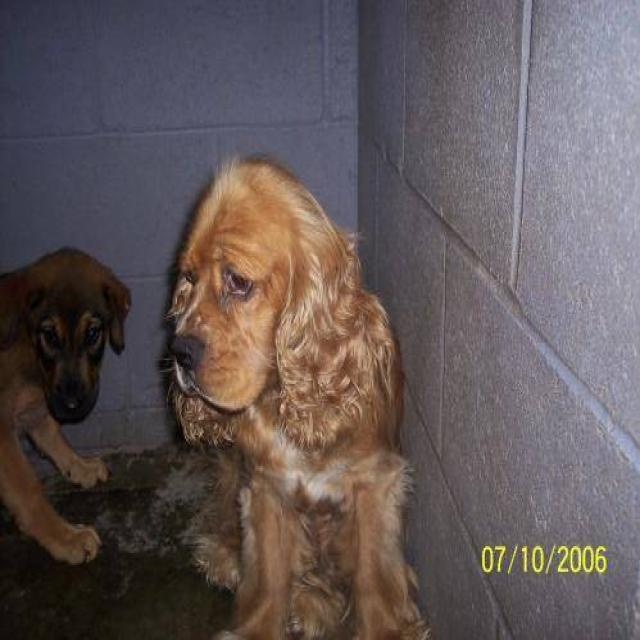dog: (156, 154, 432, 638), (0, 242, 132, 567)
